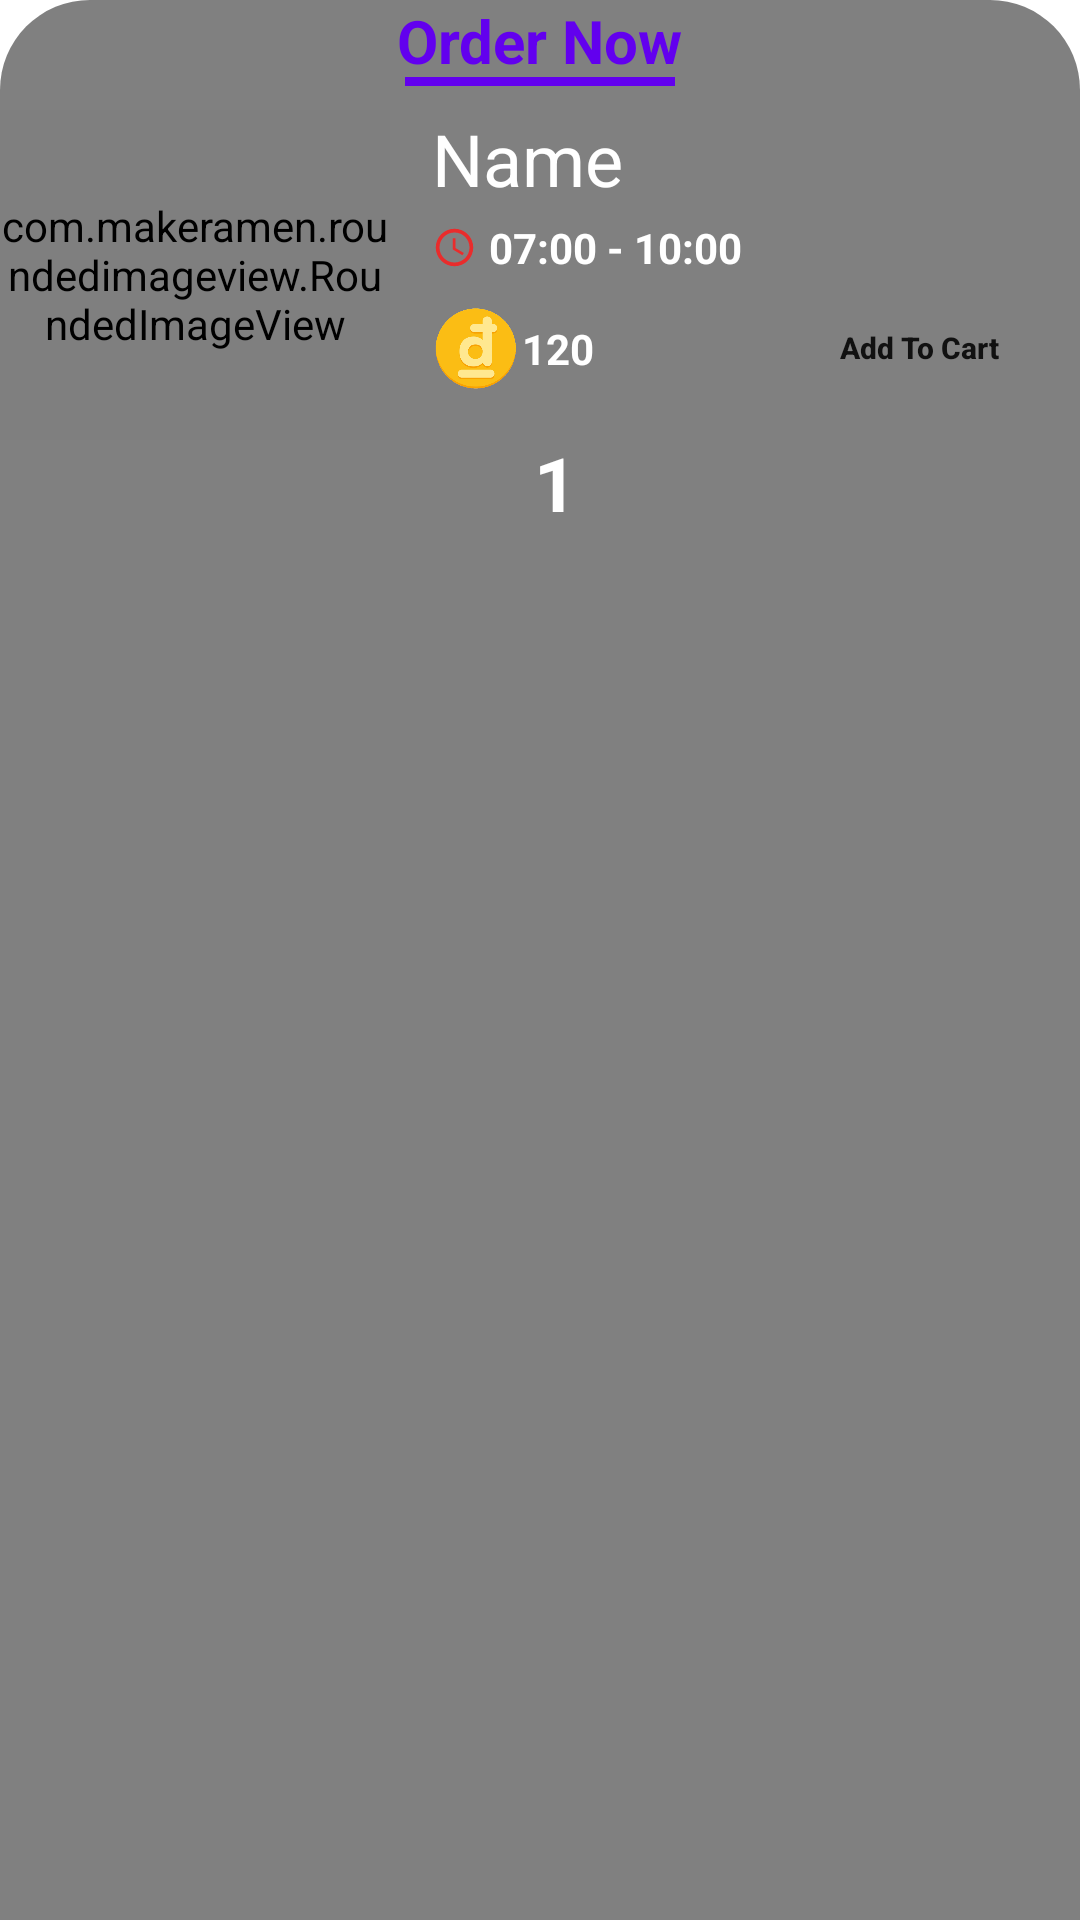

Where to tap for icons on this 1080w x 1920h app screen, as (x,y):
access time: (454,247)
vndong: (476,348)
